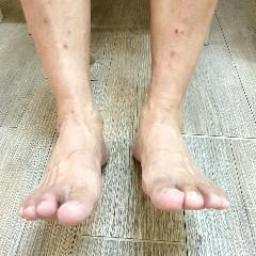Front View -Both Feet-: (8, 80, 248, 250)
